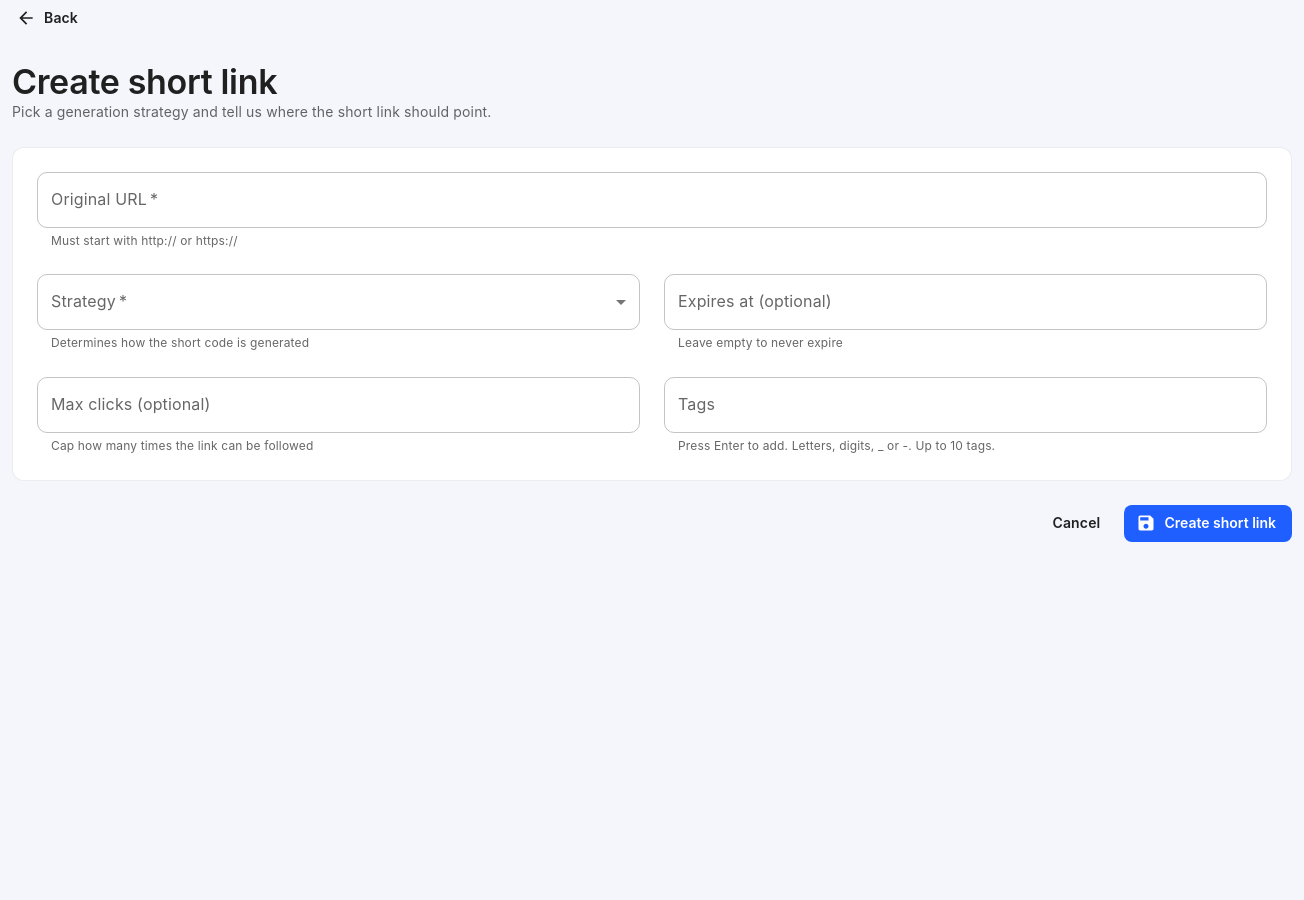
<ShortLinkFormPage> — create flow › shows a client-side error when maxClicks is below 1
Type "https://example.com" into the field labelled "Original URL *".
click(652, 200); type("https://example.com")  # box [37,172,1267,228]
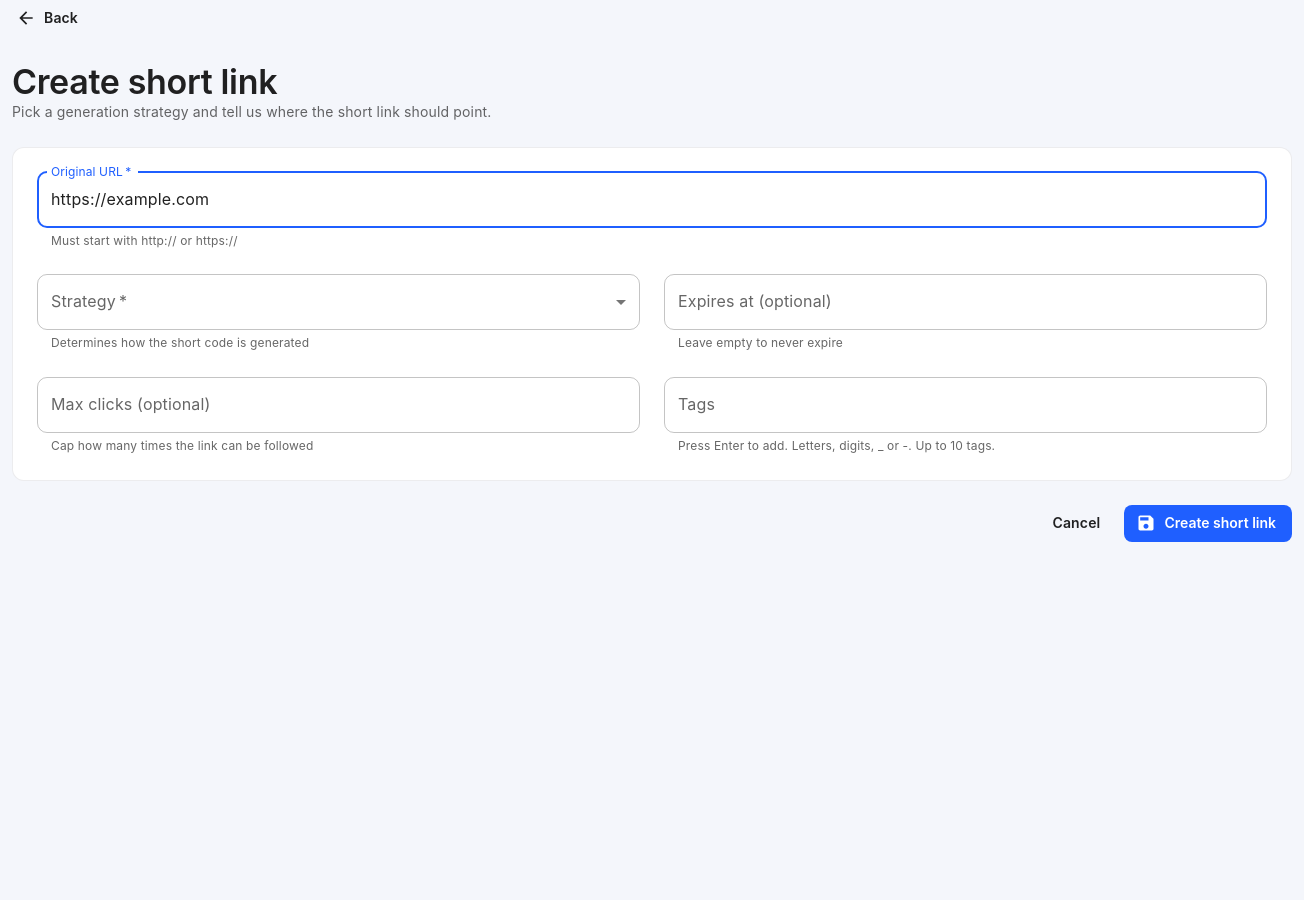
Click the 1st dropdown.
click(338, 302)  # box [37,274,640,330]
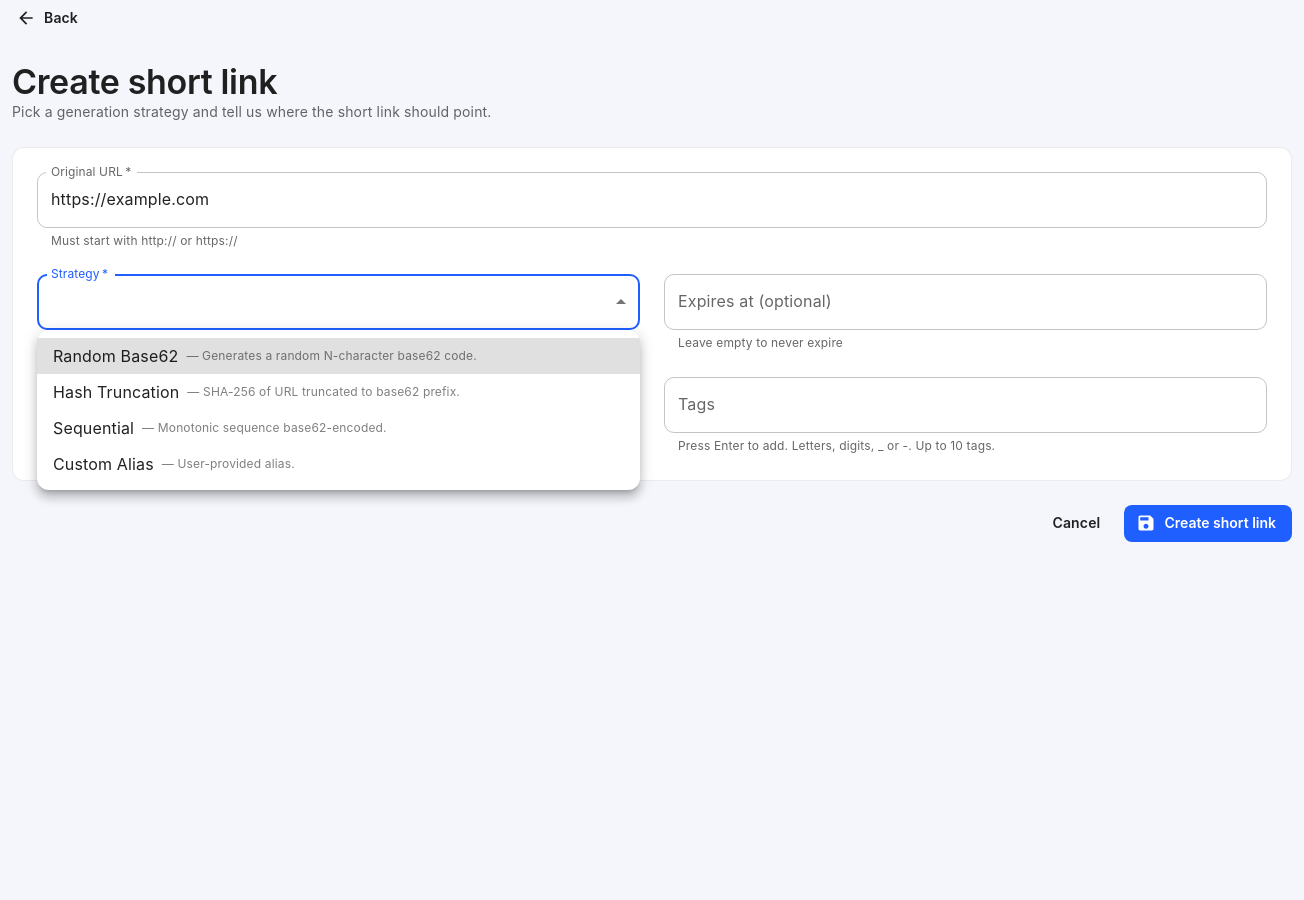
Click the option "Random Base62 — Generates a random N-character base62 code.".
click(338, 356)  # box [37,338,640,374]
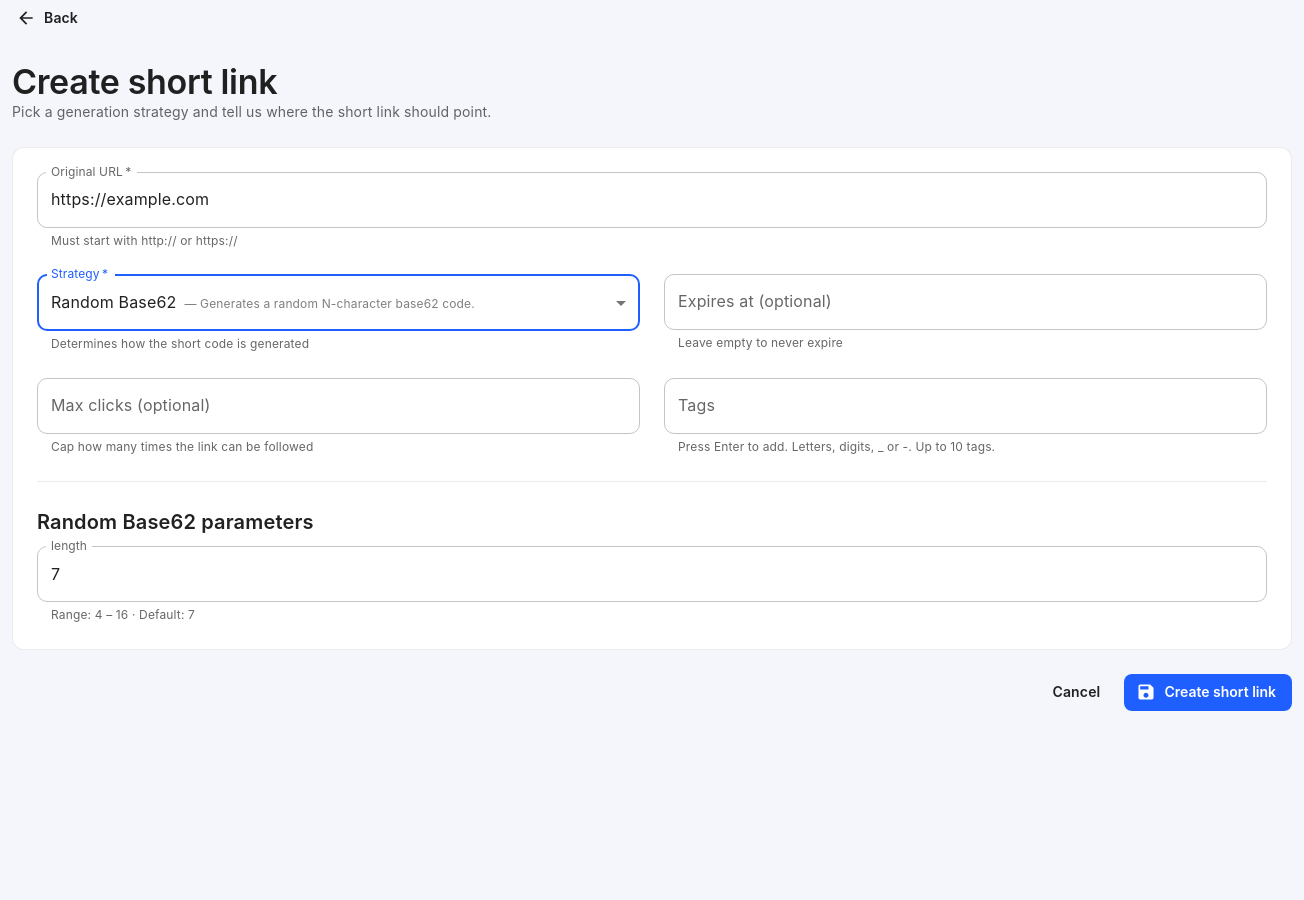
Type "0" into the number field labelled "Max clicks (optional)".
click(338, 406); type("0")  # box [37,378,640,434]
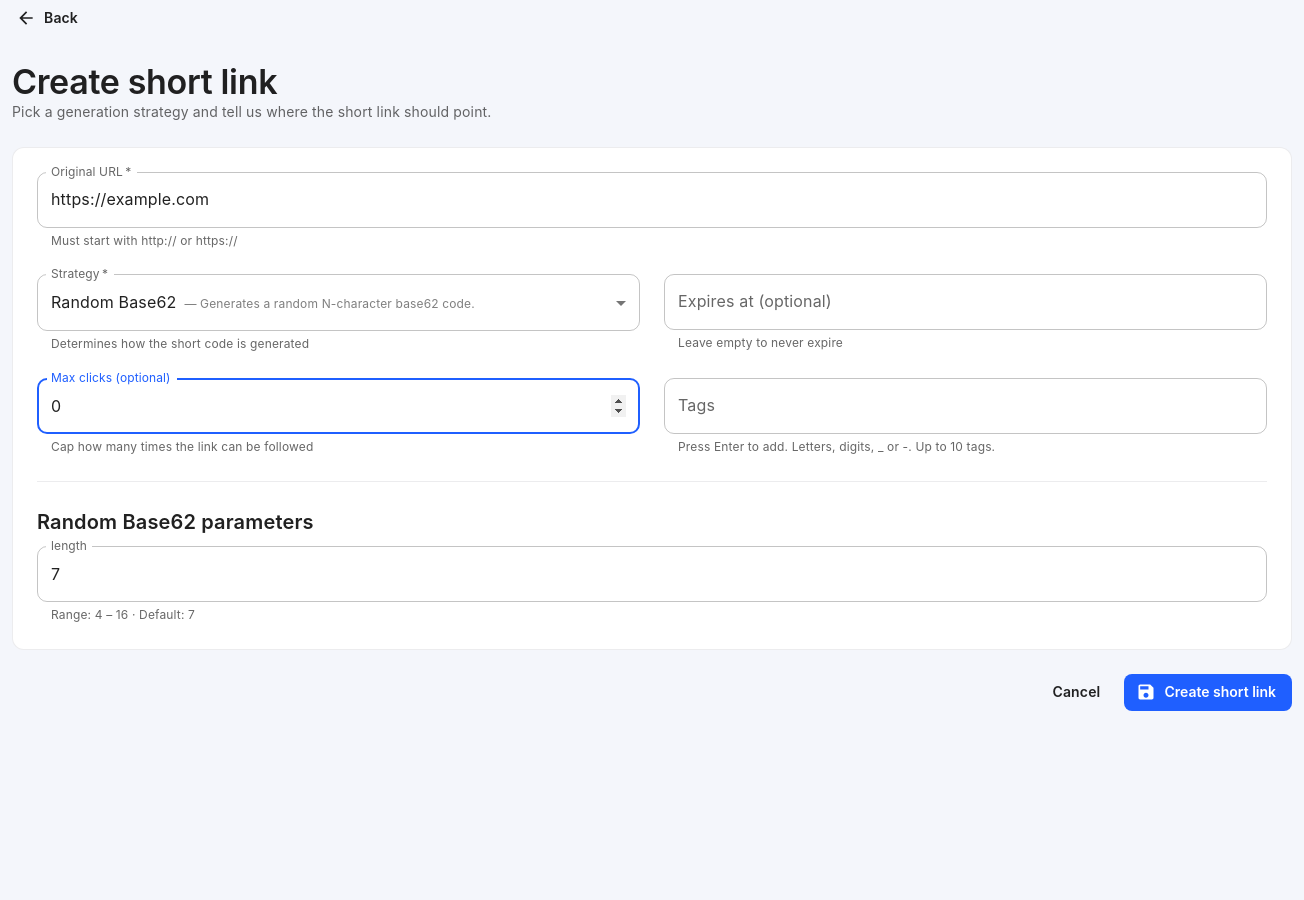
Click the button "Create short link".
click(1208, 692)  # box [1124,674,1292,711]
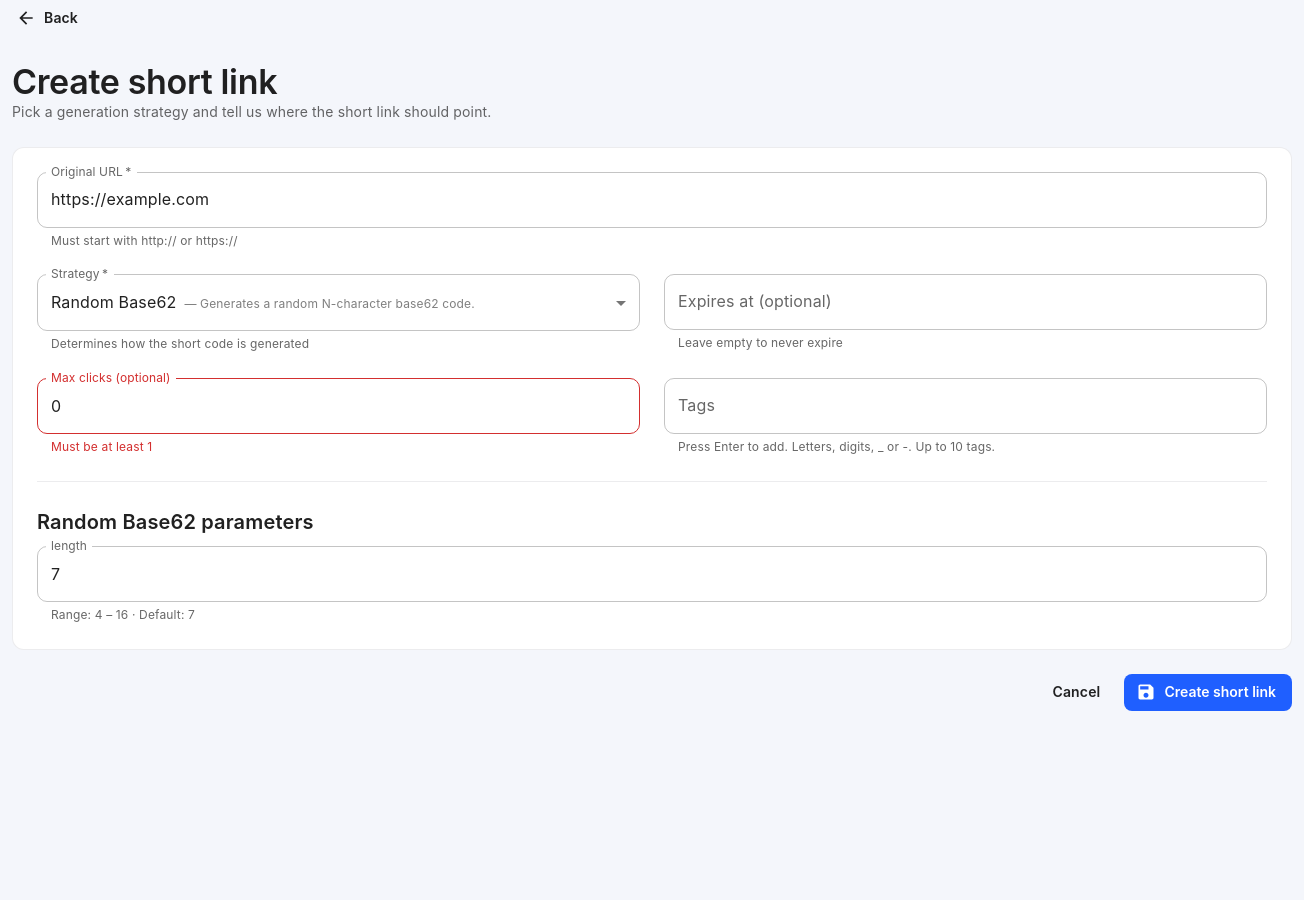
Result: the text "Must be at least 1" is shown at [51,439,152,454]
